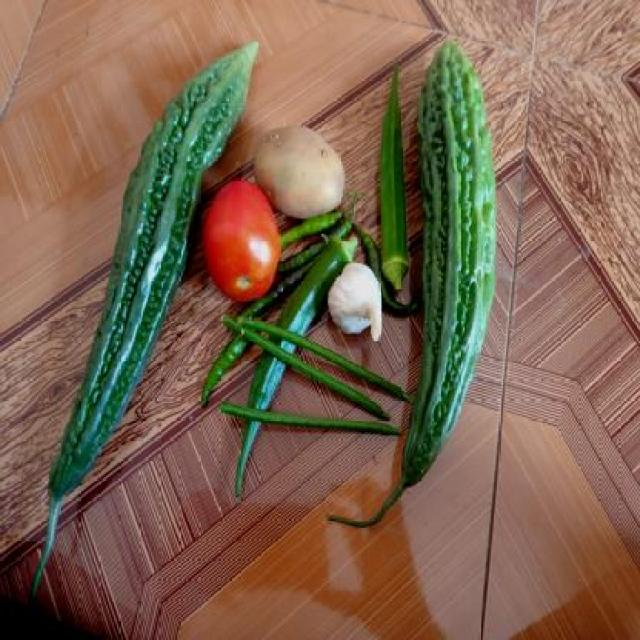Bitter melon: (46, 80, 208, 505), (414, 34, 500, 492)
Garlic: (328, 263, 386, 343)
Lady finger: (380, 71, 411, 291)
Potato: (252, 125, 350, 217)
Tomato: (206, 182, 277, 302)
